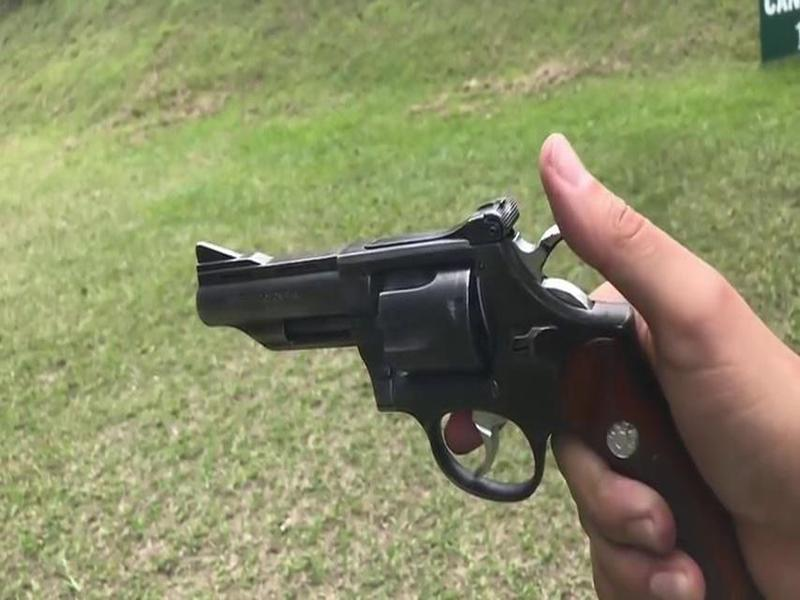Revolver: (169, 170, 721, 499)
